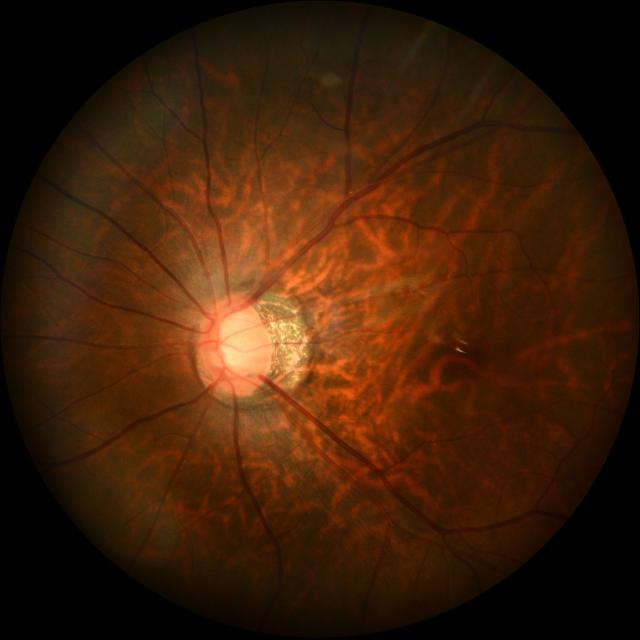OC: (216, 312, 262, 378)
OD: (194, 296, 271, 397)
